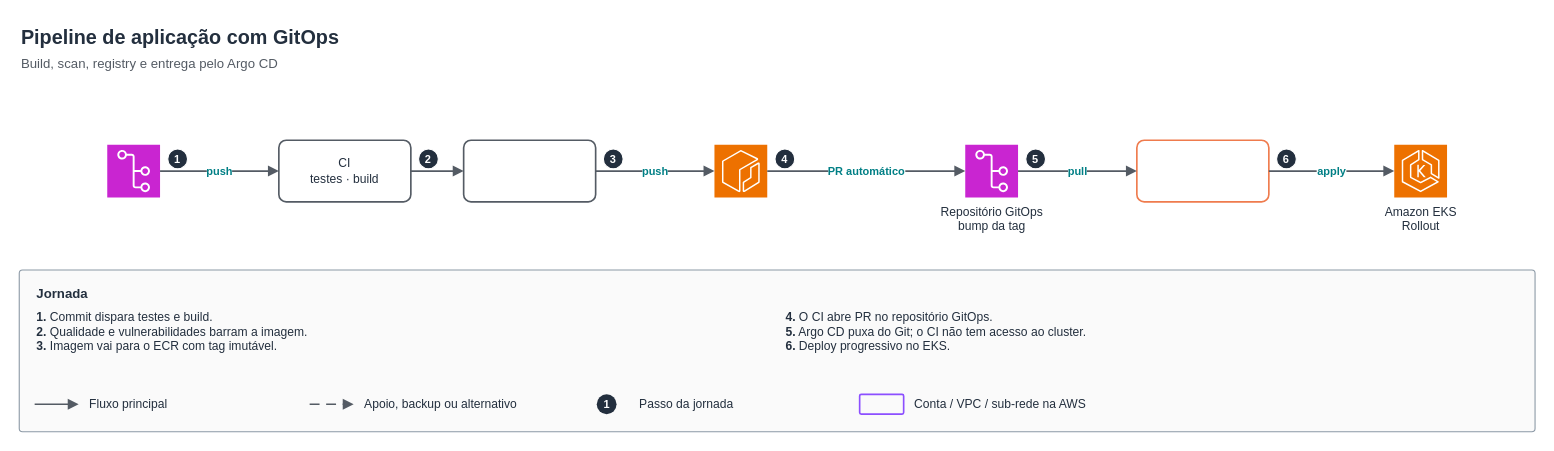
The diagram is 1554 pixels wide and 451 high, and some of its shapes have lost their labels. The box of each missing label's shape, as (x1, y1, x2, y2) in pixels:
Amazon ECR imagem imutável: (713, 144, 767, 197)
Argo CD sync: (1136, 139, 1269, 202)
Repositório da aplicação: (106, 144, 160, 197)
Sonar · Trivy assinatura: (462, 139, 596, 202)
